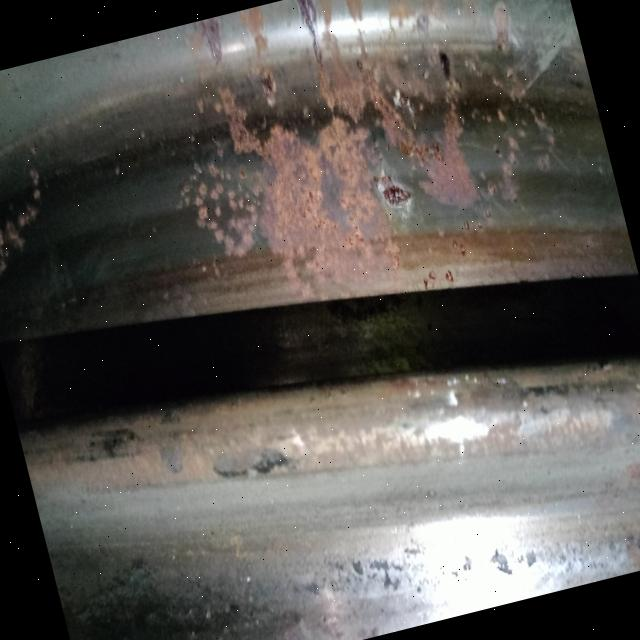Blue hole: (202, 421, 305, 500)
Peeling: (343, 507, 566, 623)
